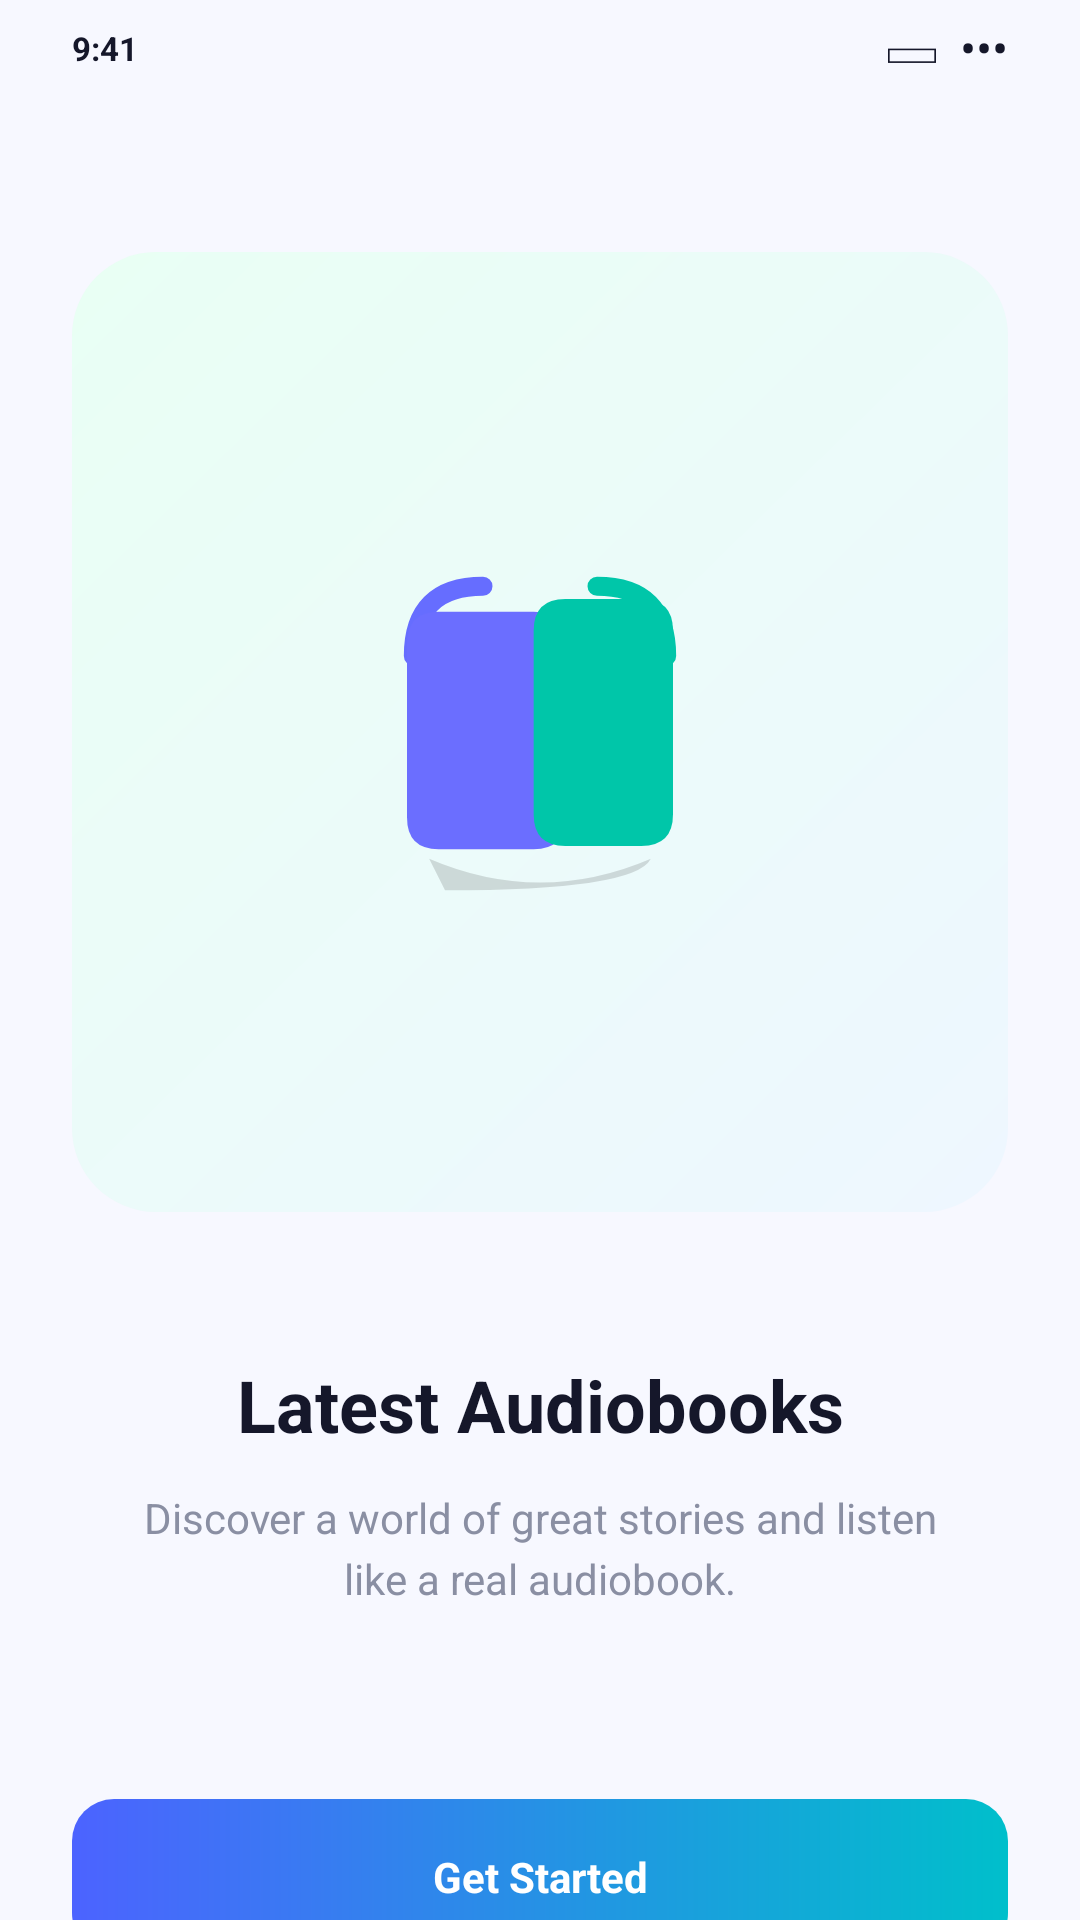

Screen size 1080px×1920px. Icon name, then its box in pixels as (x1, y1, x2, y2):
book illustration: (404, 576, 677, 890)
